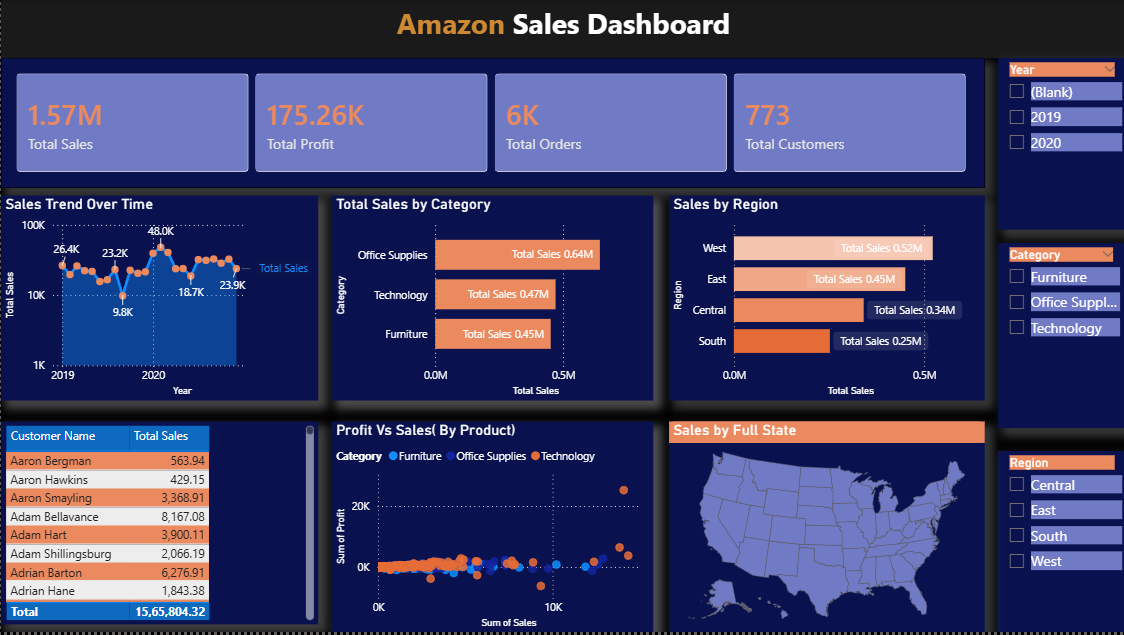

The page's visual inventory and layout, read from the dashboard file:
{"tool":"powerbi","page":{"name":"Page 1","canvas":[1280,720],"ordinal":0},"visuals":[{"type":"cardVisual","fields":{"Data":["Amazon Store Sales Data.Total Sales","Amazon Store Sales Data.Total Profit","Amazon Store Sales Data.Total Orders","Amazon Store Sales Data.Total Customers"]},"box":[0,67.1,1102.9,149],"z":0},{"type":"lineChart","title":"Sales Trend Over Time","fields":{"Y":["Amazon Store Sales Data.Total Sales"],"Category":["Amazon Store Sales Data.order date.1.Variation.Date Hierarchy.Year","Amazon Store Sales Data.order date.1.Variation.Date Hierarchy.Month"]},"box":[0,223.6,348.4,234.7],"z":1000},{"type":"clusteredBarChart","fields":{"Category":["Amazon Store Sales Data.Category"],"Y":["Amazon Store Sales Data.Total Sales"]},"box":[376.3,223.6,350.2,234.7],"z":2000},{"type":"clusteredBarChart","title":" Sales by Region","fields":{"Category":["Amazon Store Sales Data.Region"],"Y":["Amazon Store Sales Data.Total Sales"]},"box":[760.1,223.6,342.8,234.7],"z":3000},{"type":"tableEx","fields":{"Values":["Amazon Store Sales Data.Customer Name","Amazon Store Sales Data.Total Sales"]},"box":[0,480.6,348.4,231],"z":4000},{"type":"scatterChart","title":"Profit Vs Sales( By Product)","fields":{"X":["Sum(Amazon Store Sales Data.Sales)"],"Y":["Sum(Amazon Store Sales Data.Profit)"],"Category":["Amazon Store Sales Data.Product Name"],"Series":["Amazon Store Sales Data.Category"]},"box":[376.3,480.6,350.2,238.5],"z":5000},{"type":"textbox","box":[0,0,1279.8,67.1],"z":6000},{"type":"slicer","fields":{"Values":["Amazon Store Sales Data.Year"]},"box":[1134.9,67.3,145.8,195.1],"z":7000},{"type":"slicer","fields":{"Values":["Amazon Store Sales Data.Region"]},"box":[1134.9,513.6,145.8,206.4],"z":8000},{"type":"slicer","fields":{"Values":["Amazon Store Sales Data.Category"]},"box":[1134.9,278.1,143.6,210.8],"z":9000},{"type":"shapeMap","title":" Sales by Full State","fields":{"Category":["Amazon Store Sales Data.Full State"],"Value":["Sum(Amazon Store Sales Data.Sales)"]},"box":[760.1,480.6,342.8,238.5],"z":9001}]}

Visuals, with their boxes in screenshot pixels (x1, y1, x2, y2), scaled from the page's 1280x720 canvas onto the 1124x635 screenshot:
cardVisual - Amazon Store Sales Data.Total Sales x Amazon Store Sales Data.Total Profit: bbox=[0, 59, 968, 191]
"Sales Trend Over Time" lineChart: bbox=[0, 197, 306, 404]
clusteredBarChart - Amazon Store Sales Data.Category x Amazon Store Sales Data.Total Sales: bbox=[330, 197, 638, 404]
" Sales by Region" clusteredBarChart: bbox=[667, 197, 968, 404]
tableEx - Amazon Store Sales Data.Customer Name x Amazon Store Sales Data.Total Sales: bbox=[0, 424, 306, 628]
"Profit Vs Sales( By Product)" scatterChart: bbox=[330, 424, 638, 634]
textbox: bbox=[0, 0, 1123, 59]
slicer - Amazon Store Sales Data.Year: bbox=[997, 59, 1123, 231]
slicer - Amazon Store Sales Data.Region: bbox=[997, 453, 1123, 634]
slicer - Amazon Store Sales Data.Category: bbox=[997, 245, 1123, 431]
" Sales by Full State" shapeMap: bbox=[667, 424, 968, 634]
